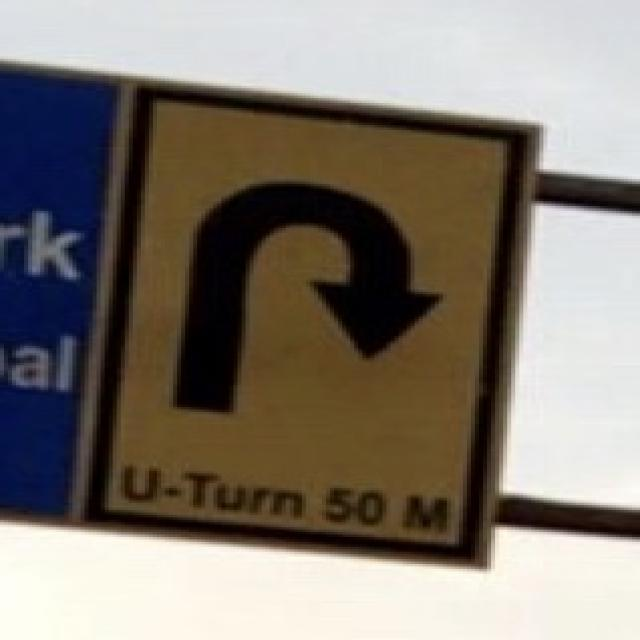u turn: (160, 142, 448, 447)
